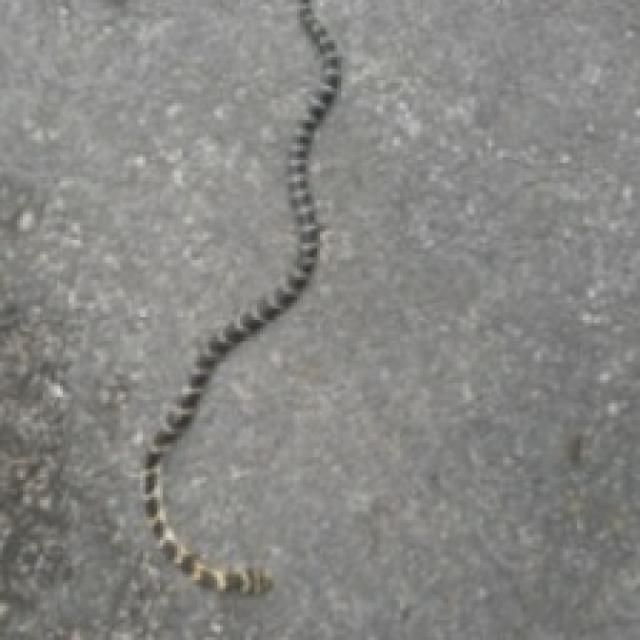king cobra: (143, 0, 337, 591)
